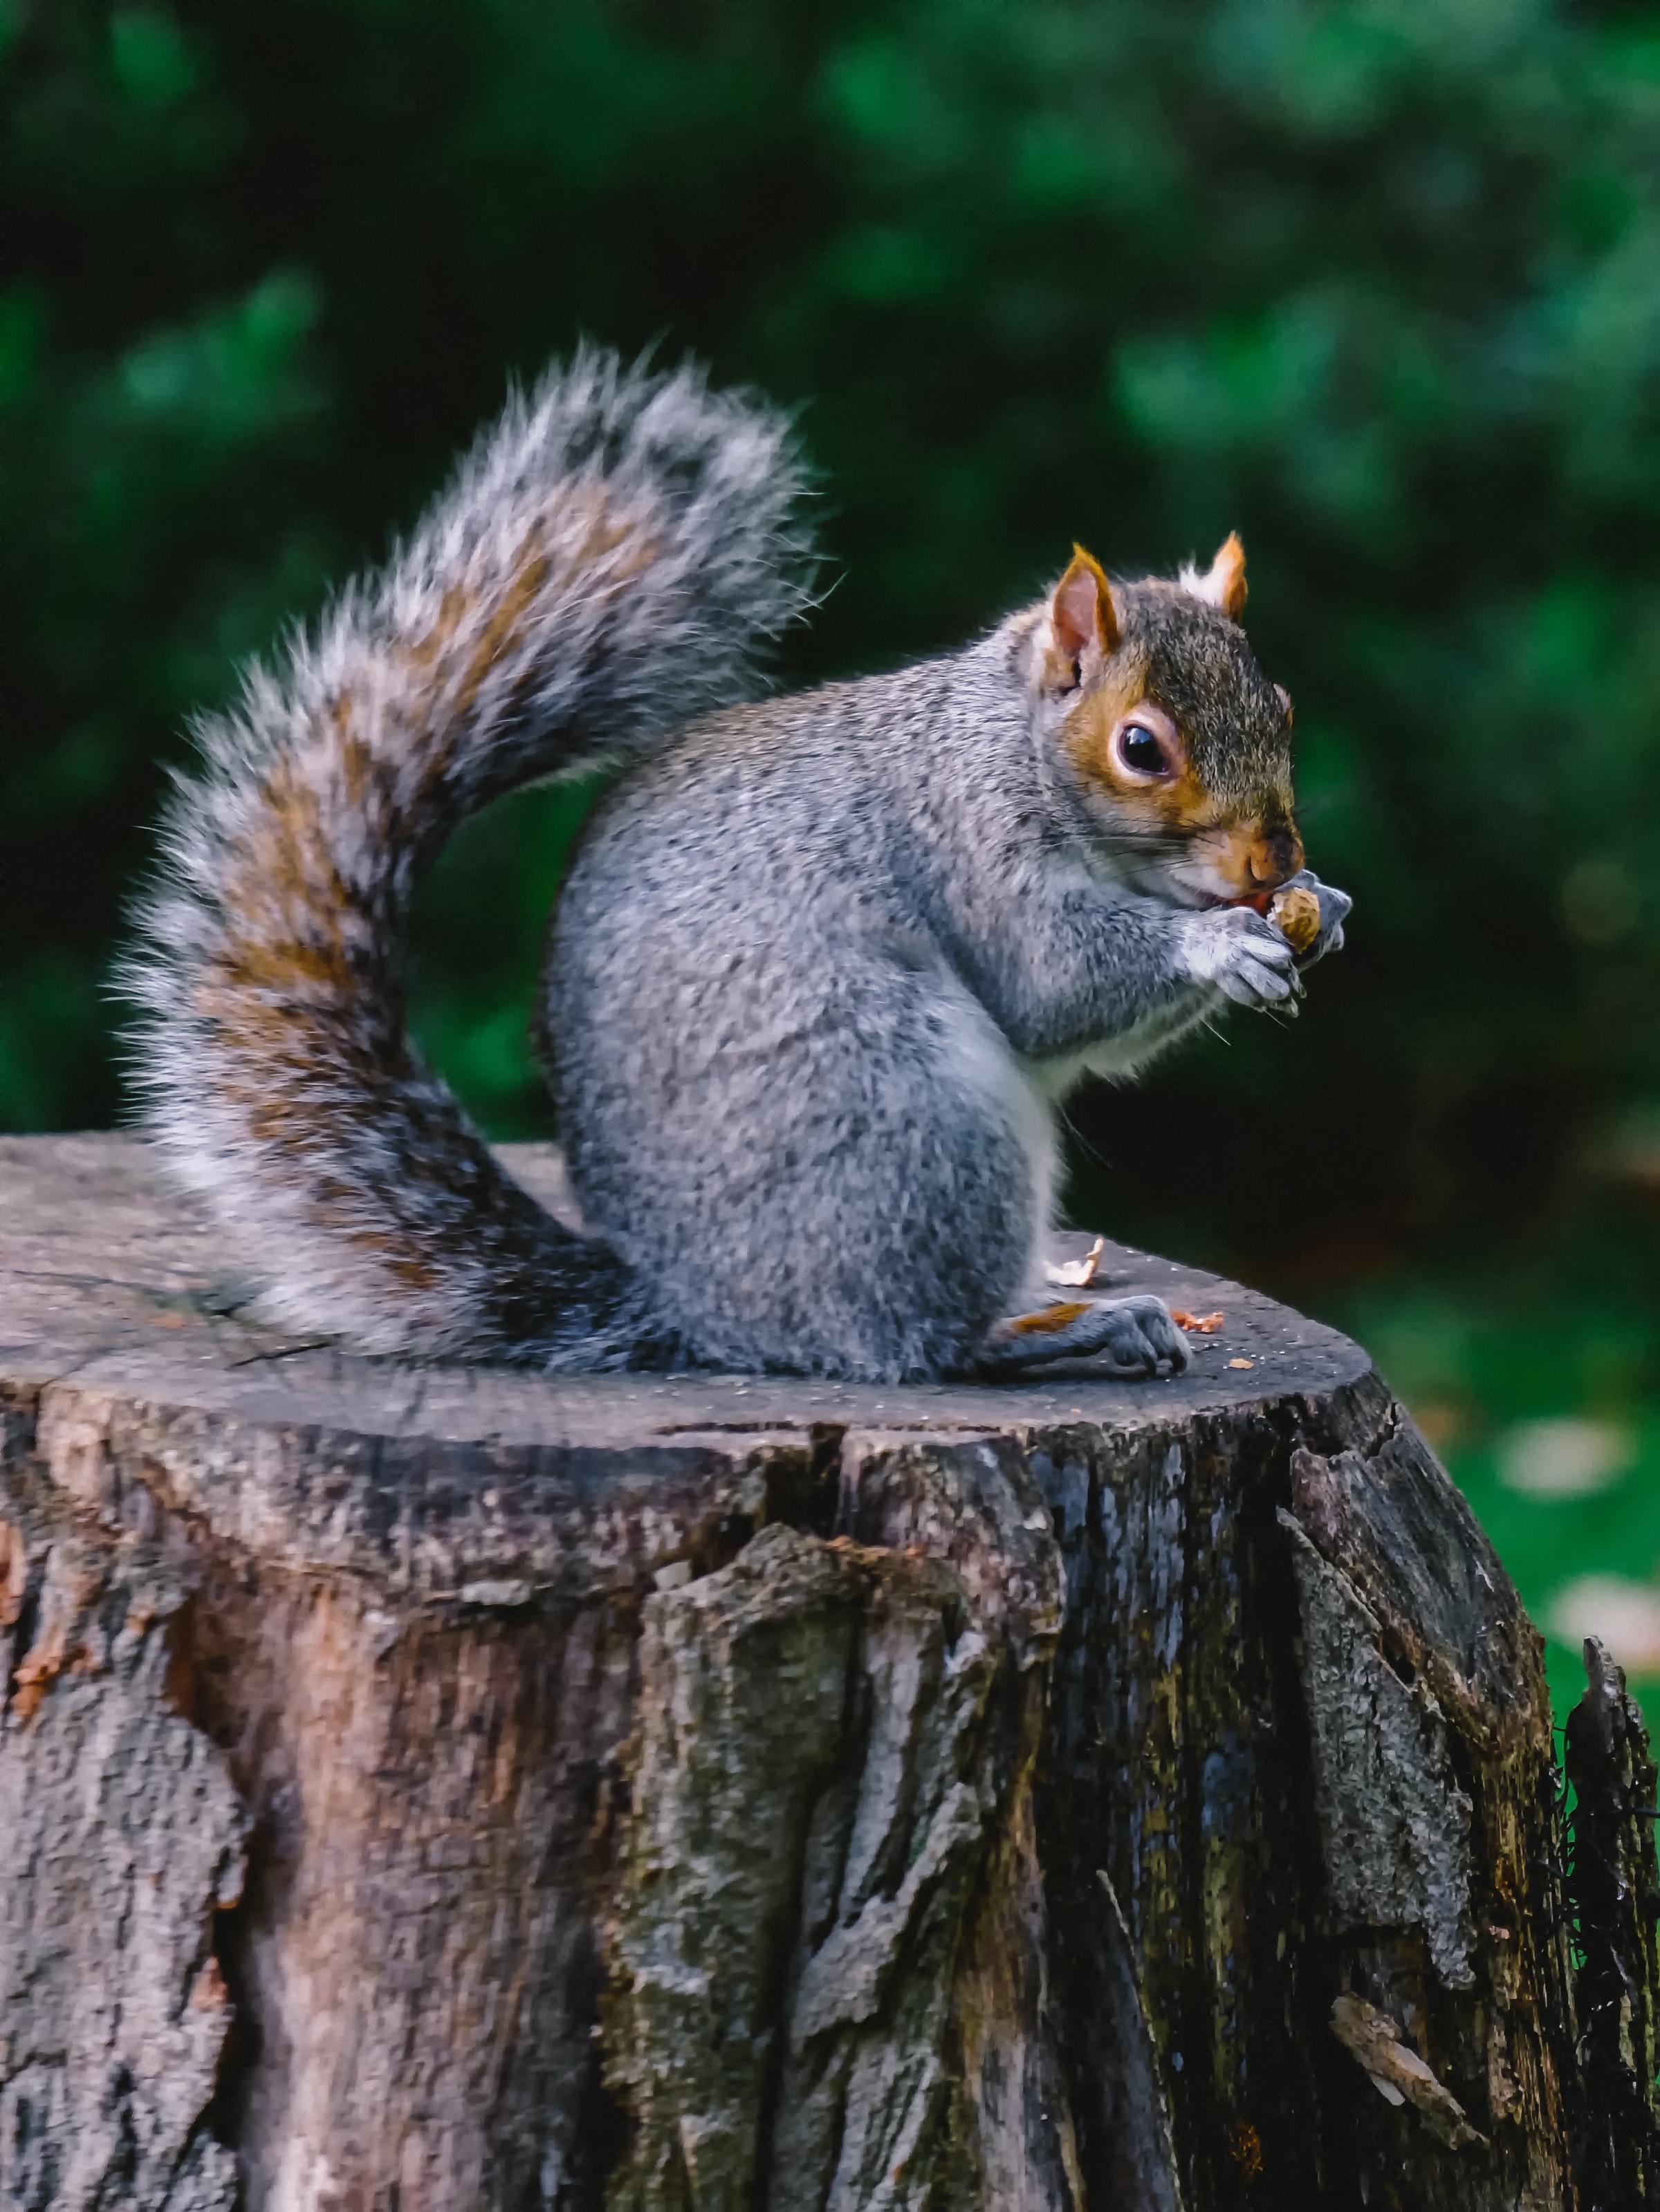squirrel: (129, 312, 1362, 1419)
